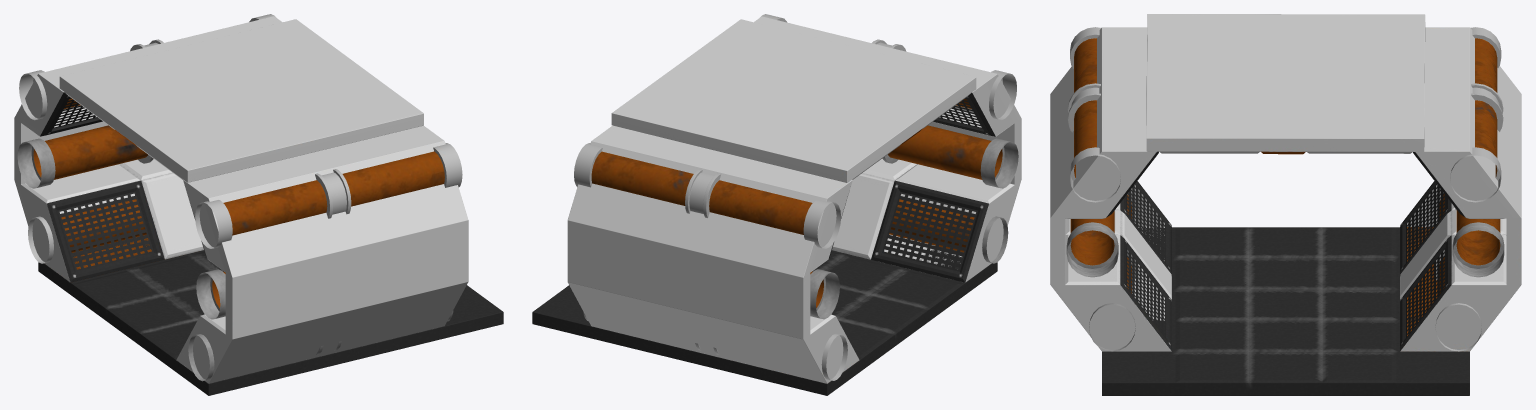
The model's file is corridor_branco.glb.
The picture shows the model from 3 angles, left to right: view 1: azimuth 30°, elevation 25°; view 2: azimuth 150°, elevation 25°; view 3: azimuth 270°, elevation 25°; orthographic projection. The views are drawn at different scales.
Visible parts, largest first — view 1: Corridor; view 2: Corridor; view 3: Corridor.
Boxes of the visible parts, left/top/right/bottom form: Corridor: left=14, top=14, right=503, bottom=395; Corridor: left=532, top=14, right=1021, bottom=395; Corridor: left=1050, top=14, right=1521, bottom=395.
Size of the model in its own units: 508 by 340 by 640.
1 material, 1 textured.
